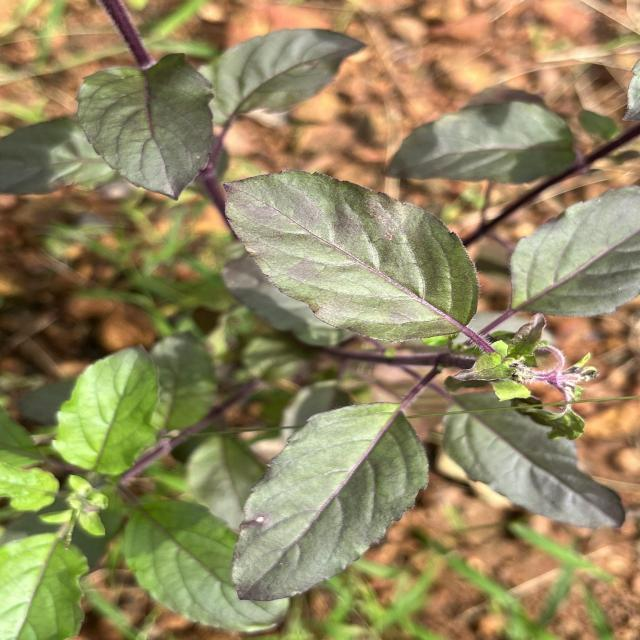Ocimum tenuiflorum: (220, 166, 484, 347)
